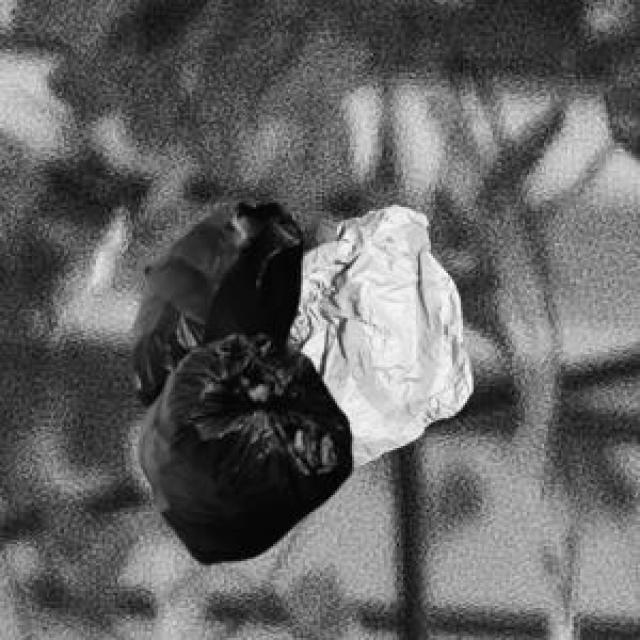miscellaneous trash: (124, 198, 348, 561)
paper: (286, 201, 467, 463)
